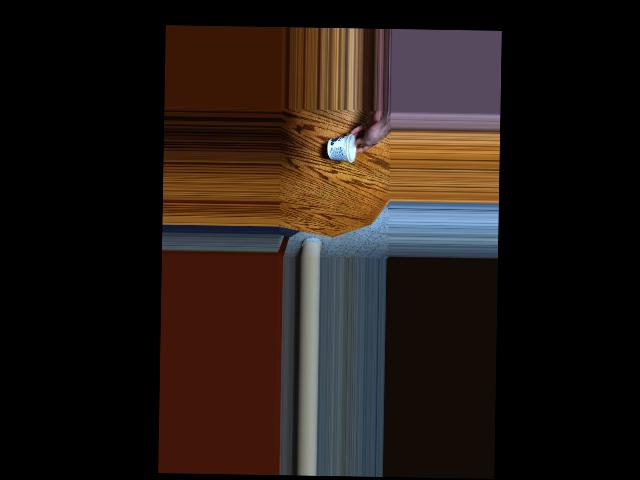cotage: (330, 133, 357, 165)
